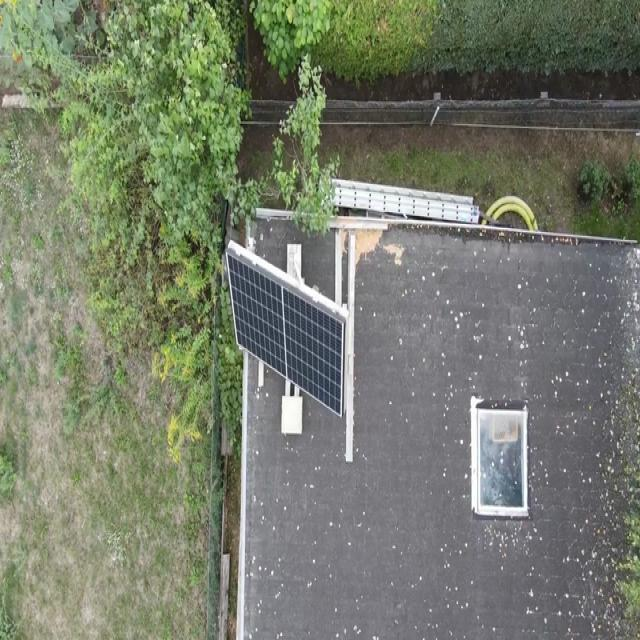Normal Solar Panel: (227, 245, 347, 416)
